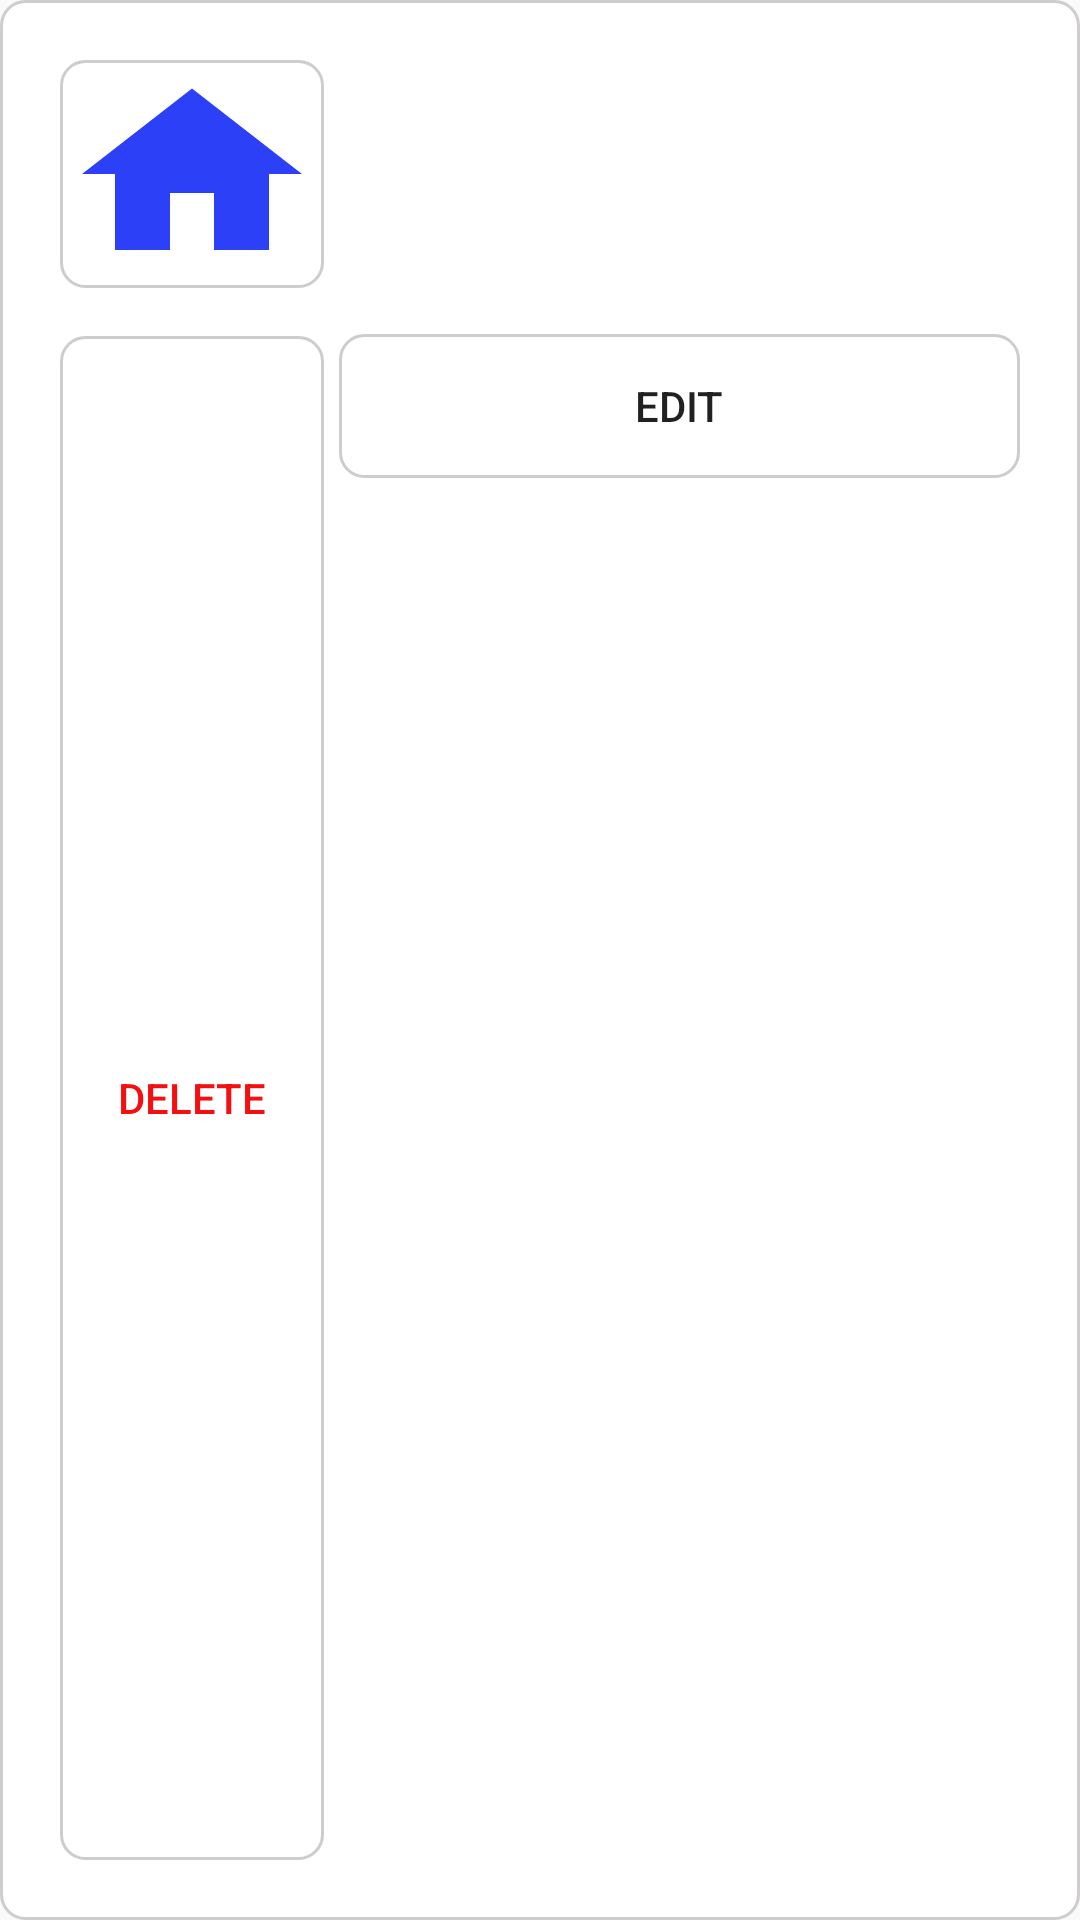

Icon bounding boxes for this 1080×1920 phone screenshot, format [x1, y1, x2, y2]:
home: [60, 60, 324, 288]
